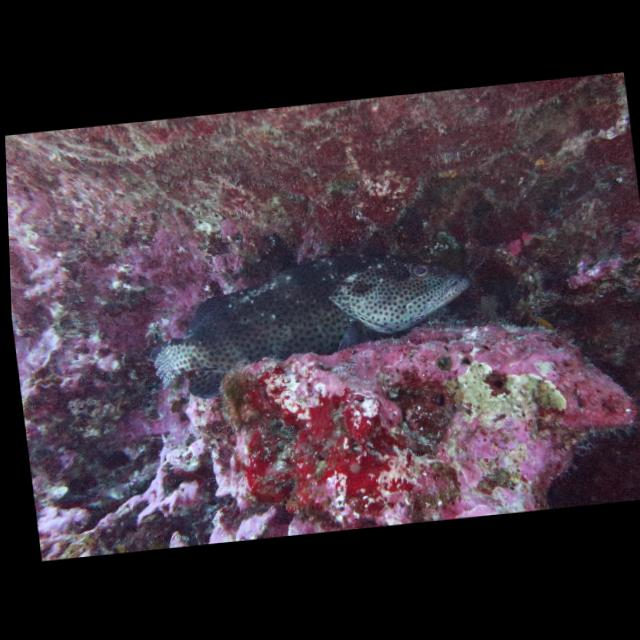Groupers: (139, 245, 479, 404)
